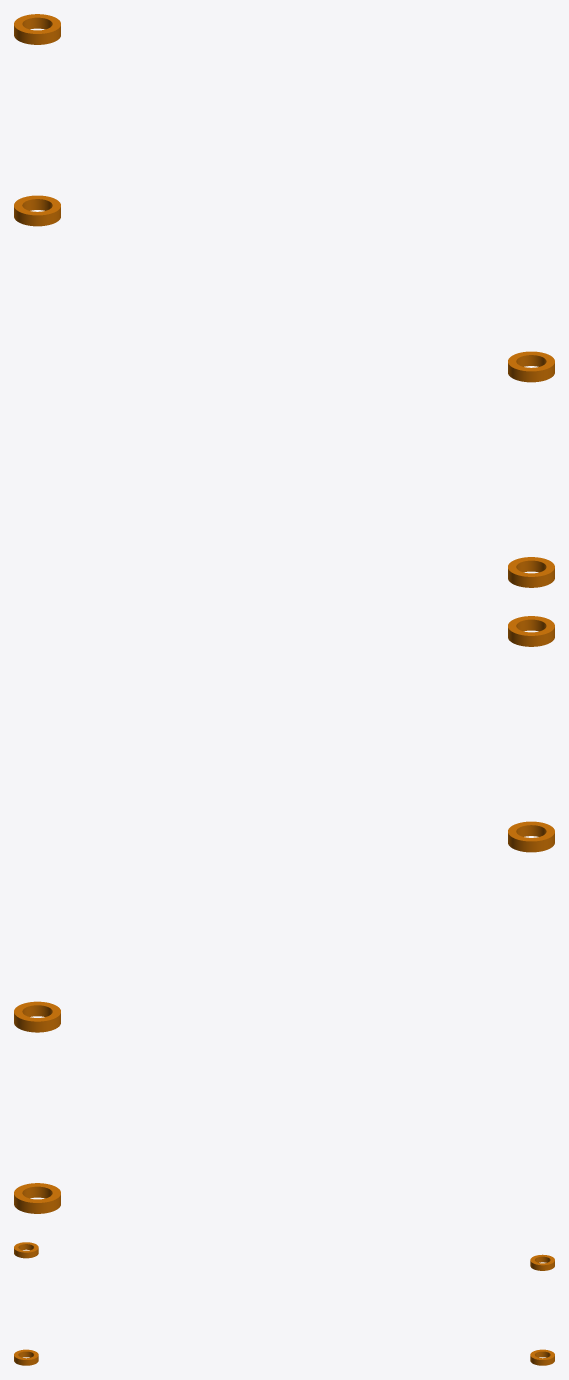
File: CONTROL__STEERING__STEERING COMPONENTS__locking rings part no. 46040-46054.glb
3 views of the same model, one above another, from view 1: azimuth 30°, elevation 25°; view 2: azimuth 150°, elevation 25°; view 3: azimuth 270°, elevation 25° (orthographic). The views are drawn at different scales.
Visible parts, largest first — view 1: locking rings part no. 46040-46054; view 2: locking rings part no. 46040-46054; view 3: locking rings part no. 46040-46054.
Boxes of the visible parts, bbox=[...] form: locking rings part no. 46040-46054: bbox=[14, 14, 554, 587]; locking rings part no. 46040-46054: bbox=[14, 616, 554, 1213]; locking rings part no. 46040-46054: bbox=[14, 1242, 554, 1365].
Size of the model in its own units: 0.078 by 0.3955 by 1.71.
